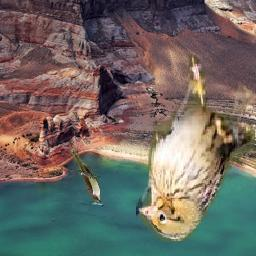Cuckoo: (71, 148, 102, 202)
Sparrow: (137, 56, 256, 243)
